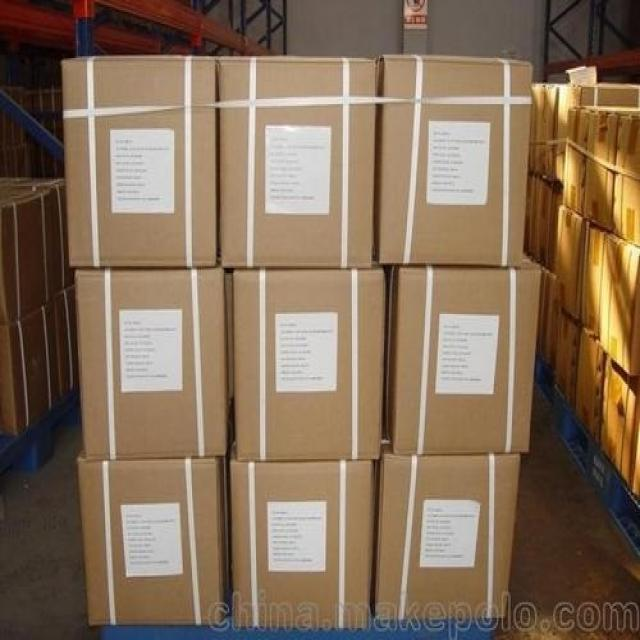Carton: (60, 58, 381, 621), (376, 51, 535, 452), (376, 454, 522, 621), (232, 464, 370, 620)
